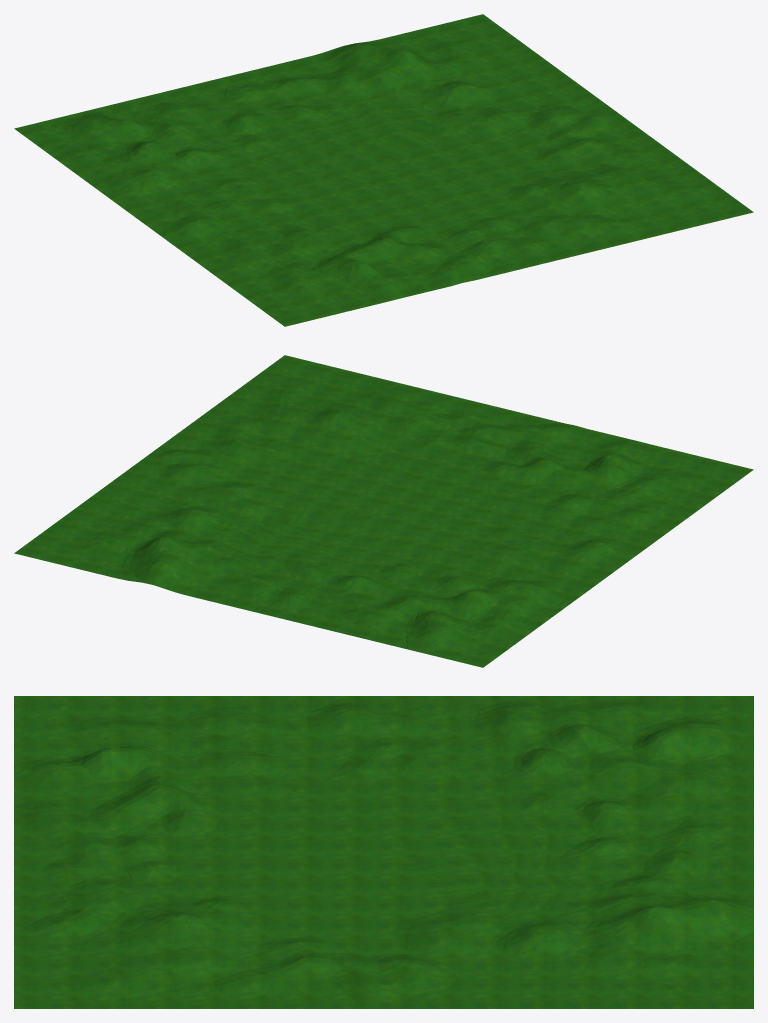
3 views of the same model, one above another, from view 1: azimuth 30°, elevation 25°; view 2: azimuth 150°, elevation 25°; view 3: azimuth 270°, elevation 25° (orthographic). The views are drawn at different scales.
Parts seen in each view (by area): view 1: Ground_Mesh; view 2: Ground_Mesh; view 3: Ground_Mesh.
Part boxes in pixels (box(x1,y1,x2,y2)): Ground_Mesh: box(14, 14, 753, 326); Ground_Mesh: box(14, 355, 753, 667); Ground_Mesh: box(14, 696, 753, 1008).
Size of what is drawn, in the model's own units: 2000 by 69.67 by 2000.
1 material, 1 textured.
